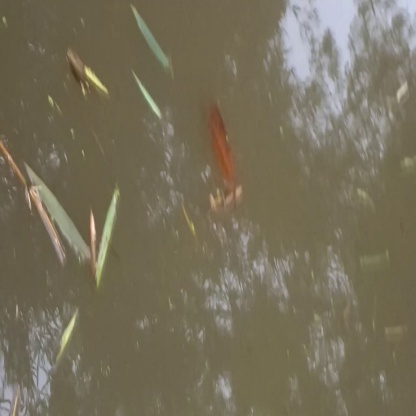leaf: (20, 159, 132, 289)
